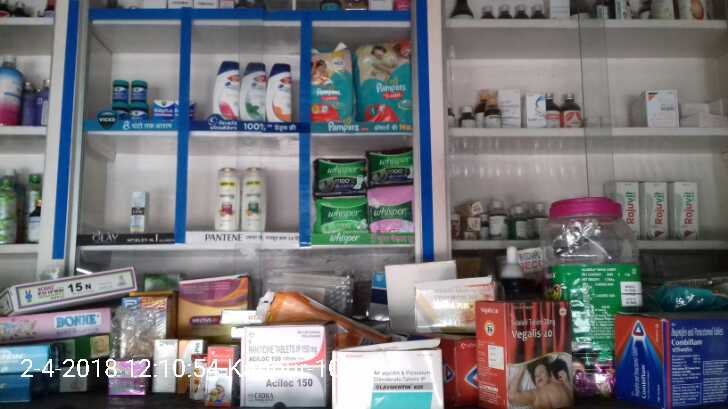vicks: (110, 79, 129, 101), (175, 99, 196, 118), (154, 100, 175, 118), (110, 101, 129, 118), (132, 80, 146, 101), (132, 101, 148, 118)
